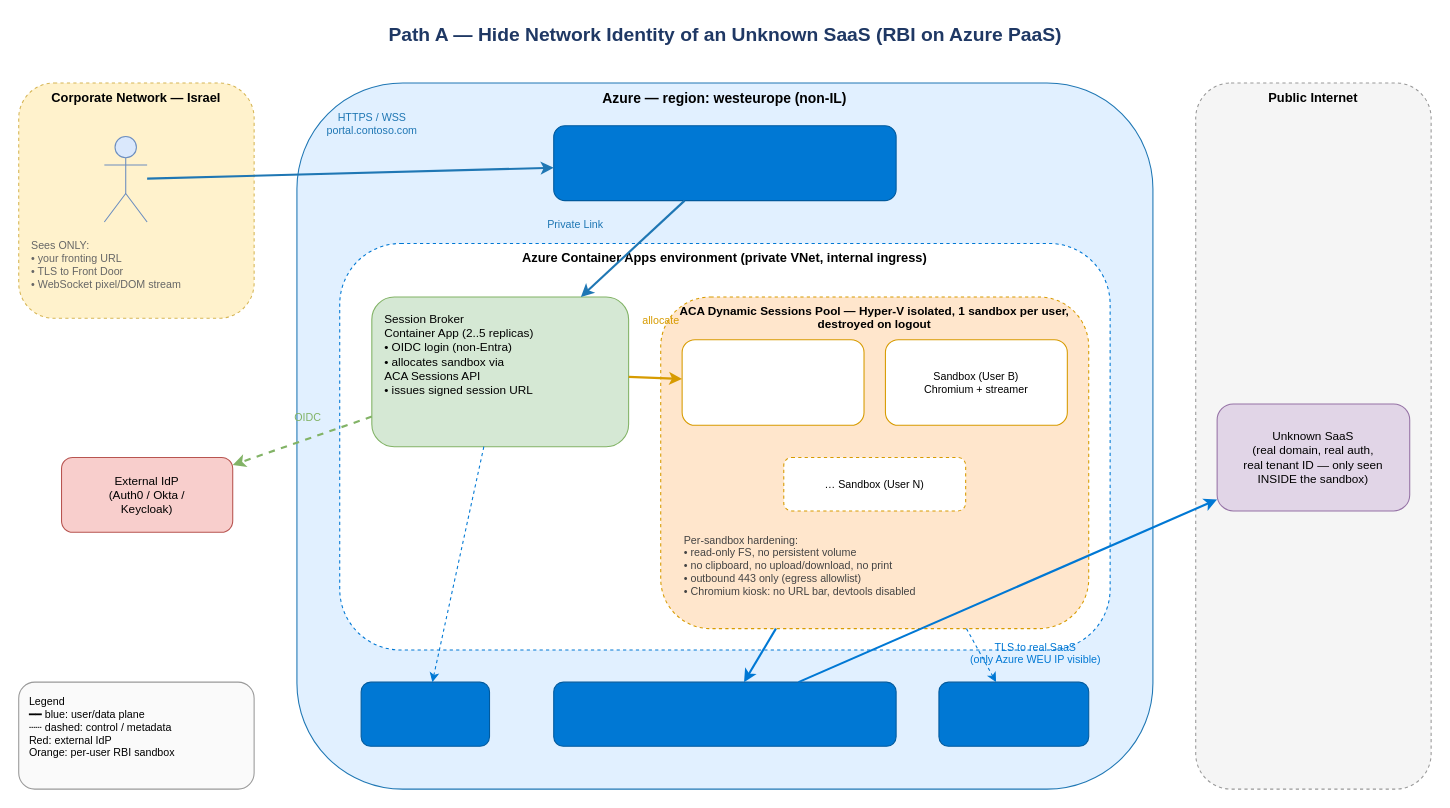
This 1450x808 diagram has some shape labels left out. The shapes that lost their labels are listed below. From the top down, each one's centre as x and y in pixels, then its label:
[125,178]: End User (Chromium browser) portal.contoso.com
[724,163]: Azure Front Door Premium + WAF + DDoS Std custom domain & cert
[772,382]: Sandbox (User A) Chromium + Kasm streamer kiosk mode (no URL bar)
[425,713]: Key Vault (OIDC secrets, signing keys)
[724,713]: NAT Gateway + Standard Public IP (stable Azure WEU egress IP)
[1013,713]: Azure DNS Private Resolver
